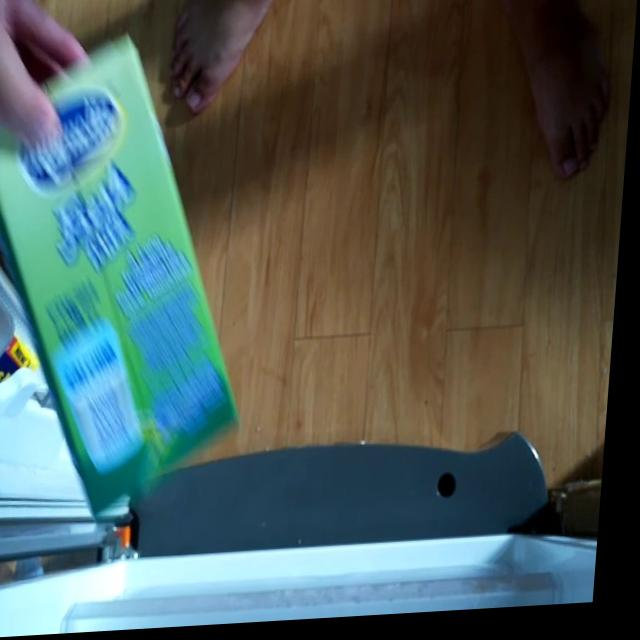milk: (0, 26, 273, 518)
